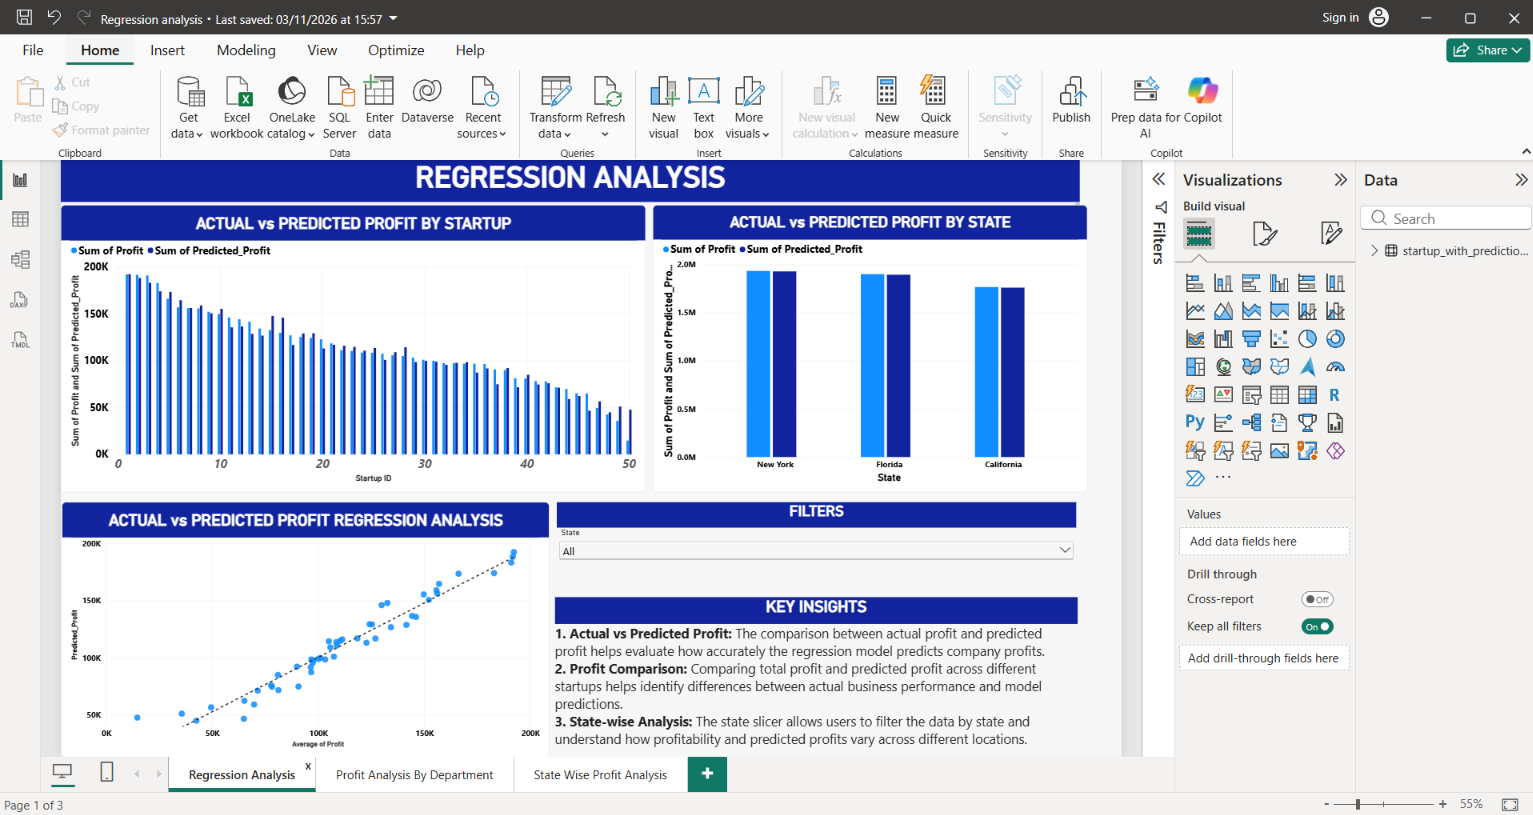

What the dashboard file says about the page in this screenshot:
{"tool":"powerbi","page":{"name":"Regression Analysis","canvas":[1920,1080],"ordinal":0},"visuals":[{"type":"clusteredColumnChart","title":"ACTUAL vs PREDICTED PROFIT BY STARTUP","fields":{"Category":["startup_with_predictions.Startup_ID"],"Y":["Sum(startup_with_predictions.Profit)","Sum(startup_with_predictions.Predicted_Profit)"]},"box":[0,82,1058,520],"z":0},{"type":"clusteredColumnChart","title":"ACTUAL vs PREDICTED PROFIT BY STATE","fields":{"Y":["Sum(startup_with_predictions.Profit)","Sum(startup_with_predictions.Predicted_Profit)"],"Category":["startup_with_predictions.State"]},"box":[1072,82,786,520],"z":1000},{"type":"scatterChart","title":"ACTUAL vs PREDICTED PROFIT REGRESSION ANALYSIS","fields":{"Y":["startup_with_predictions.Predicted_Profit"],"X":["Avg(startup_with_predictions.Profit)"]},"box":[2,618,882,462],"z":2000},{"type":"slicer","title":"FILTERS","fields":{"Values":["startup_with_predictions.State"]},"box":[898,618,940,150],"z":3000},{"type":"textbox","box":[2,899,780,181],"z":4000},{"type":"textbox","title":"REGRESSION ANALYSIS","box":[0,0,1844.3,82.3],"z":5000},{"type":"textbox","title":"KEY INSIGHTS","box":[894,790,946,290],"z":6000}]}

Visuals, with their boxes on the page's 1920x1080 design canvas (x1, y1, x2, y2). These are canvas units, not pixel positions in the 1533x815 screenshot, which may show the page scaled, cropped or inside an application window:
"ACTUAL vs PREDICTED PROFIT BY STARTUP" clusteredColumnChart: [0,82,1058,602]
"ACTUAL vs PREDICTED PROFIT BY STATE" clusteredColumnChart: [1072,82,1858,602]
"ACTUAL vs PREDICTED PROFIT REGRESSION ANALYSIS" scatterChart: [2,618,884,1080]
"FILTERS" slicer: [898,618,1838,768]
textbox: [2,899,782,1080]
"REGRESSION ANALYSIS" textbox: [0,0,1844,82]
"KEY INSIGHTS" textbox: [894,790,1840,1080]
